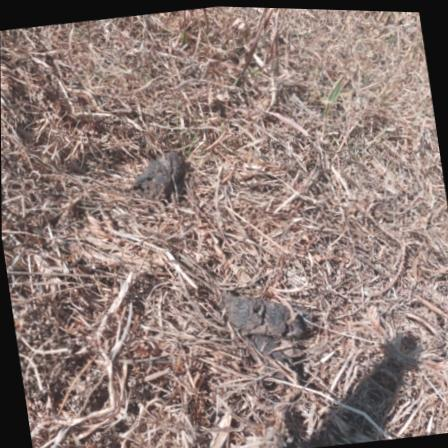dog-poop: (200, 271, 328, 375), (120, 136, 198, 198)
